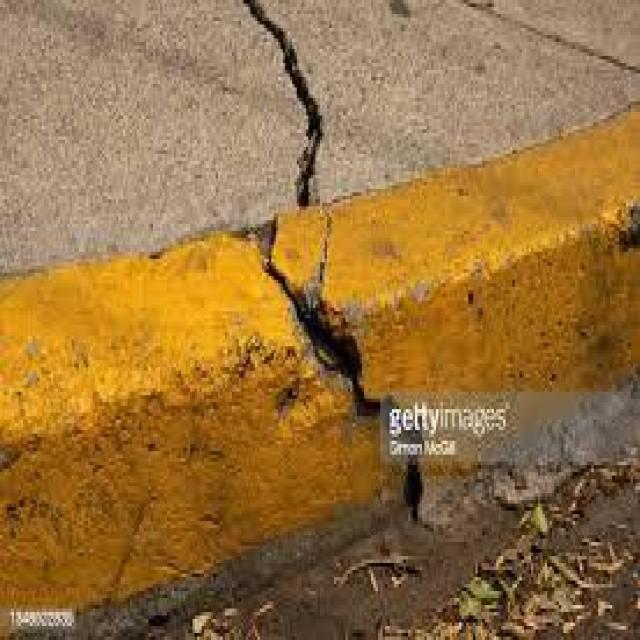curb: (7, 105, 630, 628)
